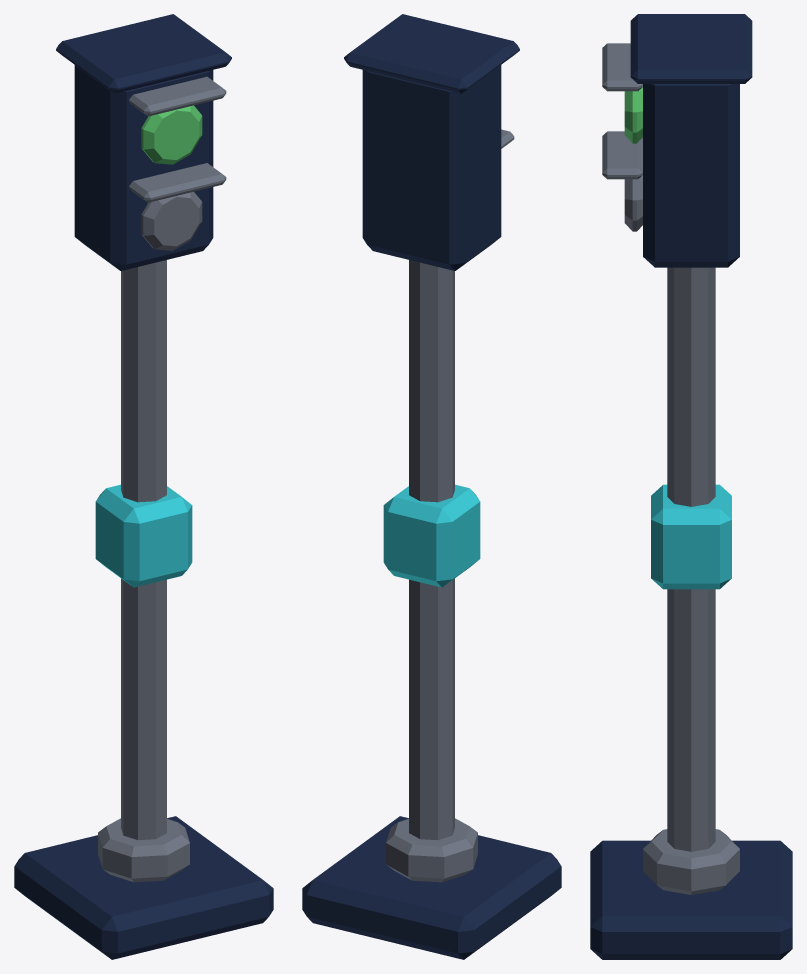
The model's file is signal_lamp.obj.
3 views of the same model, side by side, from view 1: azimuth 30°, elevation 25°; view 2: azimuth 150°, elevation 25°; view 3: azimuth 270°, elevation 25° (orthographic). The views are drawn at different scales.
Parts seen in each view (by area): view 1: signal_lamp; view 2: signal_lamp; view 3: signal_lamp.
Part boxes in pixels (x1,y1,x2,y2): signal_lamp: (14,14,273,959); signal_lamp: (302,14,561,959); signal_lamp: (590,14,792,959).
Size of the model in its own units: 0.5 by 2.4 by 0.5.
